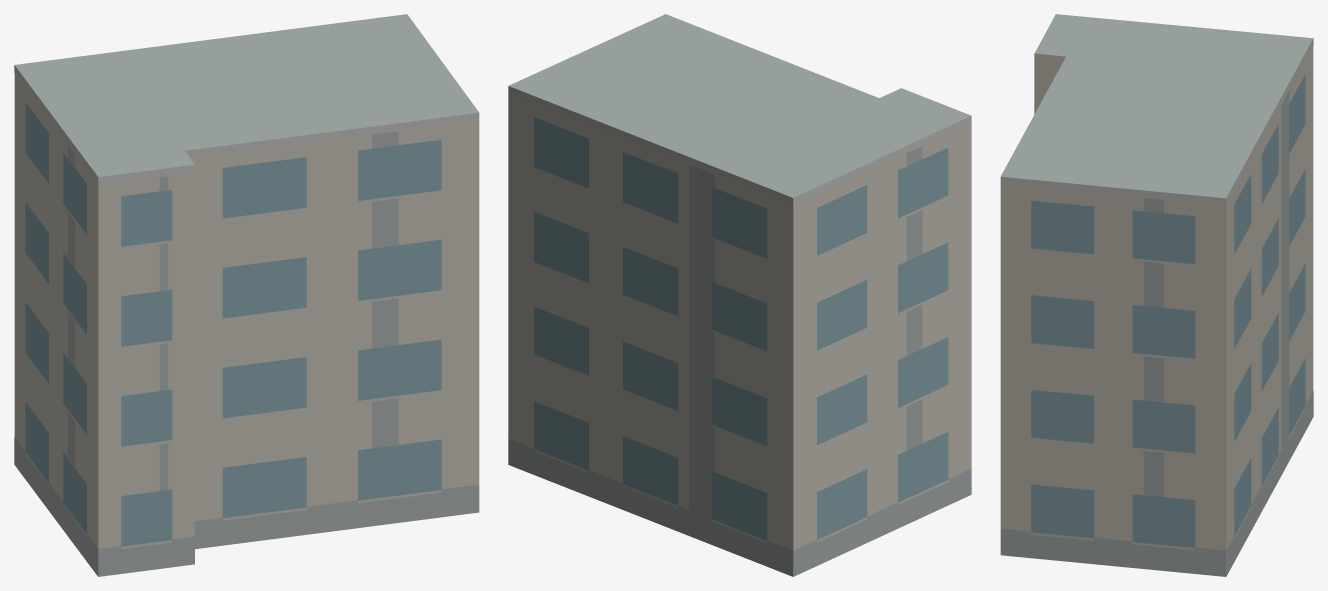
File: residential-bf06f4e5-c117-4ea6-beba-050c47e9e3ba.glb
3 renders of one model, left to right at view 1: azimuth 30°, elevation 25°; view 2: azimuth 150°, elevation 25°; view 3: azimuth 270°, elevation 25°, orthographic. The views are drawn at different scales.
Parts seen in each view (by area): view 1: residential-bf06f4e5-c117-4ea6-beba-050c47e9e3ba.tmp; view 2: residential-bf06f4e5-c117-4ea6-beba-050c47e9e3ba.tmp; view 3: residential-bf06f4e5-c117-4ea6-beba-050c47e9e3ba.tmp.
Part boxes in pixels (x1,y1,x2,y2): residential-bf06f4e5-c117-4ea6-beba-050c47e9e3ba.tmp: [14, 14, 479, 576]; residential-bf06f4e5-c117-4ea6-beba-050c47e9e3ba.tmp: [508, 14, 971, 576]; residential-bf06f4e5-c117-4ea6-beba-050c47e9e3ba.tmp: [1000, 14, 1313, 576].
Bounding box in the file's own units: 12.75 × 12.2 × 9.15.
